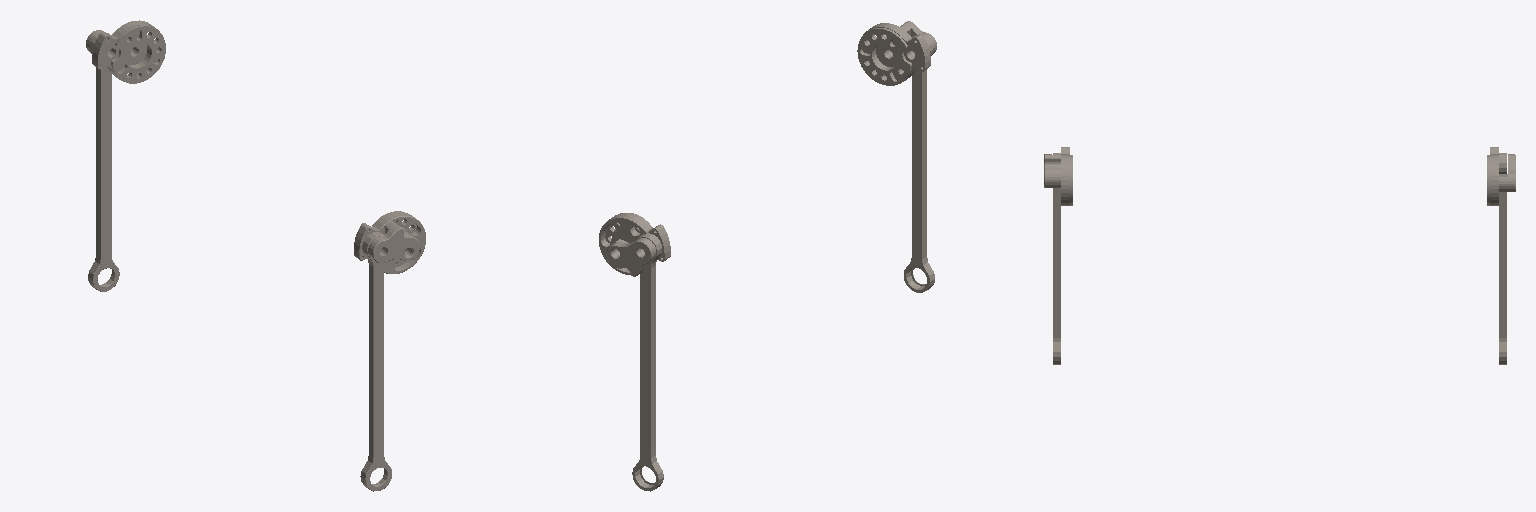
robot.urdf — titaV2:
<?xml version="1.0" encoding="utf-8"?>
<!-- This URDF was automatically created by SolidWorks to URDF Exporter! Originally created by [author] ([email redacted]) 
     Commit Version: 1.6.0-4-g7f85cfe  Build Version: 1.6.7995.38578
     For more information, please see http://wiki.ros.org/sw_urdf_exporter -->
<robot
  name="titaV2">
  <link
    name="pelvis">
    <inertial>
      <origin
        xyz="-0.002847 -0.00037169 0.01809"
        rpy="0 0 0" />
      <mass
        value="11.637" />
      <inertia
        ixx="0.047811"
        ixy="-1.1402E-05"
        ixz="0.0006116"
        iyy="0.031456"
        iyz="1.4971E-05"
        izz="0.057429" />
    </inertial>
    <visual>
      <origin
        xyz="0 0 0"
        rpy="0 0 0" />
      <geometry>
        <mesh
          filename="package://titaV2/meshes/pelvis.STL" />
      </geometry>
      <material
        name="">
        <color
          rgba="0.75294 0.75294 0.75294 1" />
      </material>
    </visual>
    <collision>
      <origin
        xyz="0 0 0"
        rpy="0 0 0" />
      <geometry>
        <mesh
          filename="package://titaV2/meshes/pelvis.STL" />
      </geometry>
    </collision>
  </link>
  <link
    name="left_hip">
    <inertial>
      <origin
        xyz="-4.4311E-05 -0.014041 0.0027491"
        rpy="0 0 0" />
      <mass
        value="1.9732" />
      <inertia
        ixx="0.002746"
        ixy="2.2481E-07"
        ixz="4.8998E-07"
        iyy="0.0040655"
        iyz="3.5899E-05"
        izz="0.0021042" />
    </inertial>
    <visual>
      <origin
        xyz="0 0 0"
        rpy="0 0 0" />
      <geometry>
        <mesh
          filename="package://titaV2/meshes/left_hip.STL" />
      </geometry>
      <material
        name="">
        <color
          rgba="0.75294 0.75294 0.75294 1" />
      </material>
    </visual>
    <collision>
      <origin
        xyz="0 0 0"
        rpy="0 0 0" />
      <geometry>
        <mesh
          filename="package://titaV2/meshes/left_hip.STL" />
      </geometry>
    </collision>
  </link>
  <joint
    name="left_hip_abduction_joint"
    type="revolute">
    <origin
      xyz="0 0.0895 0"
      rpy="0 1.5708 0" />
    <parent
      link="pelvis" />
    <child
      link="left_hip" />
    <axis
      xyz="0 0 1" />
    <limit
      lower="-1.57"
      upper="1.57"
      effort="0"
      velocity="0" />
  </joint>
  <link
    name="left_thigh">
    <inertial>
      <origin
        xyz="0.019003 0.00092368 -0.091109"
        rpy="0 0 0" />
      <mass
        value="2.365" />
      <inertia
        ixx="0.0024777"
        ixy="-0.00013332"
        ixz="0.00010713"
        iyy="0.0052687"
        iyz="5.2693E-06"
        izz="0.0067964" />
    </inertial>
    <visual>
      <origin
        xyz="0 0 0"
        rpy="0 0 0" />
      <geometry>
        <mesh
          filename="package://titaV2/meshes/left_thigh.STL" />
      </geometry>
      <material
        name="">
        <color
          rgba="0.75294 0.75294 0.75294 1" />
      </material>
    </visual>
    <collision>
      <origin
        xyz="0 0 0"
        rpy="0 0 0" />
      <geometry>
        <mesh
          filename="package://titaV2/meshes/left_thigh.STL" />
      </geometry>
    </collision>
  </link>
  <joint
    name="left_hip_flexion_joint"
    type="revolute">
    <origin
      xyz="0 0.1826 0"
      rpy="-1.5708 0 0" />
    <parent
      link="left_hip" />
    <child
      link="left_thigh" />
    <axis
      xyz="0 0 1" />
    <limit
      lower="-1.57"
      upper="1.57"
      effort="0"
      velocity="0" />
  </joint>
  <link
    name="left_calf">
    <inertial>
      <origin
        xyz="0.12103 0.0090757 -0.050402"
        rpy="0 0 0" />
      <mass
        value="0.6116" />
      <inertia
        ixx="0.00026451"
        ixy="0.0001824"
        ixz="-2.3439E-05"
        iyy="0.0021601"
        iyz="-3.2211E-07"
        izz="0.0023188" />
    </inertial>
    <visual>
      <origin
        xyz="0 0 0"
        rpy="0 0 0" />
      <geometry>
        <mesh
          filename="package://titaV2/meshes/left_calf.STL" />
      </geometry>
      <material
        name="">
        <color
          rgba="0.75294 0.75294 0.75294 1" />
      </material>
    </visual>
    <collision>
      <origin
        xyz="0 0 0"
        rpy="0 0 0" />
      <geometry>
        <mesh
          filename="package://titaV2/meshes/left_calf.STL" />
      </geometry>
    </collision>
  </link>
  <joint
    name="left_knee_joint"
    type="revolute">
    <origin
      xyz="0.2 0 0"
      rpy="0 0 -1.5708" />
    <parent
      link="left_thigh" />
    <child
      link="left_calf" />
    <axis
      xyz="0 0 1" />
    <limit
      lower="-2"
      upper="1"
      effort="0"
      velocity="0" />
  </joint>
  <link
    name="left_wheel">
    <inertial>
      <origin
        xyz="-1.5738E-05 0.00020568 -0.0017928"
        rpy="0 0 0" />
      <mass
        value="1.5376" />
      <inertia
        ixx="0.0031616"
        ixy="1.6324E-07"
        ixz="-4.4034E-08"
        iyy="0.0031569"
        iyz="-2.2207E-06"
        izz="0.0061689" />
    </inertial>
    <visual>
      <origin
        xyz="0 0 0"
        rpy="0 0 0" />
      <geometry>
        <mesh
          filename="package://titaV2/meshes/left_wheel.STL" />
      </geometry>
      <material
        name="">
        <color
          rgba="0.69804 0.69804 0.69804 1" />
      </material>
    </visual>
    <collision>
      <origin
        xyz="0 0 0"
        rpy="0 0 0" />
      <geometry>
        <mesh
          filename="package://titaV2/meshes/left_wheel.STL" />
      </geometry>
    </collision>
  </link>
  <joint
    name="left_ankle_joint"
    type="continuous">
    <origin
      xyz="0.2 0 0"
      rpy="0 0 0" />
    <parent
      link="left_calf" />
    <child
      link="left_wheel" />
    <axis
      xyz="0 0 1" />
  </joint>
  <link
    name="left_bar">
    <inertial>
      <origin
        xyz="0.10272 6.9389E-18 -0.056316"
        rpy="0 0 0" />
      <mass
        value="0.14512" />
      <inertia
        ixx="3.2579E-06"
        ixy="2.5224E-20"
        ixz="-2.3855E-07"
        iyy="0.0006146"
        iyz="6.3552E-22"
        izz="0.00061631" />
    </inertial>
    <visual>
      <origin
        xyz="0 0 0"
        rpy="0 0 0" />
      <geometry>
        <mesh
          filename="package://titaV2/meshes/left_bar.STL" />
      </geometry>
      <material
        name="">
        <color
          rgba="0.64706 0.61961 0.58824 1" />
      </material>
    </visual>
    <collision>
      <origin
        xyz="0 0 0"
        rpy="0 0 0" />
      <geometry>
        <mesh
          filename="package://titaV2/meshes/left_bar.STL" />
      </geometry>
    </collision>
  </link>
  <joint
    name="left_calf_bar_joint"
    type="continuous">
    <origin
      xyz="-0.023182 -0.0062117 0"
      rpy="0 0 -1.5708" />
    <parent
      link="left_calf" />
    <child
      link="left_bar" />
    <axis
      xyz="0 0 1" />
  </joint>
  <link
    name="left_crank">
    <inertial>
      <origin
        xyz="0.017241 0.0015219 -0.060973"
        rpy="0 0 0" />
      <mass
        value="0.20695" />
      <inertia
        ixx="3.8345E-05"
        ixy="4.9899E-07"
        ixz="5.0169E-06"
        iyy="5.8112E-05"
        iyz="-2.8373E-06"
        izz="7.0093E-05" />
    </inertial>
    <visual>
      <origin
        xyz="0 0 0"
        rpy="0 0 0" />
      <geometry>
        <mesh
          filename="package://titaV2/meshes/left_crank.STL" />
      </geometry>
      <material
        name="">
        <color
          rgba="0.64706 0.61961 0.58824 1" />
      </material>
    </visual>
    <collision>
      <origin
        xyz="0 0 0"
        rpy="0 0 0" />
      <geometry>
        <mesh
          filename="package://titaV2/meshes/left_crank.STL" />
      </geometry>
    </collision>
  </link>
  <joint
    name="left_bar_crank_joint"
    type="continuous">
    <origin
      xyz="0.2 0 0"
      rpy="0 0 1.8326" />
    <parent
      link="left_bar" />
    <child
      link="left_crank" />
    <axis
      xyz="0 0 1" />
  </joint>
  <link
    name="right_hip">
    <inertial>
      <origin
        xyz="4.4311E-05 0.014041 0.0027491"
        rpy="0 0 0" />
      <mass
        value="1.9732" />
      <inertia
        ixx="0.002746"
        ixy="2.2481E-07"
        ixz="-4.8998E-07"
        iyy="0.0040655"
        iyz="-3.5899E-05"
        izz="0.0021042" />
    </inertial>
    <visual>
      <origin
        xyz="0 0 0"
        rpy="0 0 0" />
      <geometry>
        <mesh
          filename="package://titaV2/meshes/right_hip.STL" />
      </geometry>
      <material
        name="">
        <color
          rgba="0.75294 0.75294 0.75294 1" />
      </material>
    </visual>
    <collision>
      <origin
        xyz="0 0 0"
        rpy="0 0 0" />
      <geometry>
        <mesh
          filename="package://titaV2/meshes/right_hip.STL" />
      </geometry>
    </collision>
  </link>
  <joint
    name="right_hip_abduction_joint"
    type="revolute">
    <origin
      xyz="0 -0.0895 0"
      rpy="0 1.5708 0" />
    <parent
      link="pelvis" />
    <child
      link="right_hip" />
    <axis
      xyz="0 0 1" />
    <limit
      lower="-1.57"
      upper="1.57"
      effort="0"
      velocity="0" />
  </joint>
  <link
    name="right_thigh">
    <inertial>
      <origin
        xyz="0.018988 0.00090795 0.091109"
        rpy="0 0 0" />
      <mass
        value="2.365" />
      <inertia
        ixx="0.0024783"
        ixy="-0.00013332"
        ixz="-0.00010721"
        iyy="0.0052682"
        iyz="-5.356E-06"
        izz="0.0067965" />
    </inertial>
    <visual>
      <origin
        xyz="0 0 0"
        rpy="0 0 0" />
      <geometry>
        <mesh
          filename="package://titaV2/meshes/right_thigh.STL" />
      </geometry>
      <material
        name="">
        <color
          rgba="0.75294 0.75294 0.75294 1" />
      </material>
    </visual>
    <collision>
      <origin
        xyz="0 0 0"
        rpy="0 0 0" />
      <geometry>
        <mesh
          filename="package://titaV2/meshes/right_thigh.STL" />
      </geometry>
    </collision>
  </link>
  <joint
    name="right_hip_flexion_joint"
    type="revolute">
    <origin
      xyz="0 -0.1826 0"
      rpy="-1.5708 0 0" />
    <parent
      link="right_hip" />
    <child
      link="right_thigh" />
    <axis
      xyz="0 0 1" />
    <limit
      lower="-1.57"
      upper="1.57"
      effort="0"
      velocity="0" />
  </joint>
  <link
    name="right_calf">
    <inertial>
      <origin
        xyz="0.12103 0.0091003 0.05039"
        rpy="0 0 0" />
      <mass
        value="0.6116" />
      <inertia
        ixx="0.00026444"
        ixy="0.00018202"
        ixz="2.3441E-05"
        iyy="0.0021602"
        iyz="3.2666E-07"
        izz="0.0023188" />
    </inertial>
    <visual>
      <origin
        xyz="0 0 0"
        rpy="0 0 0" />
      <geometry>
        <mesh
          filename="package://titaV2/meshes/right_calf.STL" />
      </geometry>
      <material
        name="">
        <color
          rgba="0.75294 0.75294 0.75294 1" />
      </material>
    </visual>
    <collision>
      <origin
        xyz="0 0 0"
        rpy="0 0 0" />
      <geometry>
        <mesh
          filename="package://titaV2/meshes/right_calf.STL" />
      </geometry>
    </collision>
  </link>
  <joint
    name="right_knee_joint"
    type="revolute">
    <origin
      xyz="0.2 0 0"
      rpy="0 0 -1.5708" />
    <parent
      link="right_thigh" />
    <child
      link="right_calf" />
    <axis
      xyz="0 0 1" />
    <limit
      lower="-2"
      upper="1"
      effort="0"
      velocity="0" />
  </joint>
  <link
    name="right_wheel">
    <inertial>
      <origin
        xyz="-1.4534E-07 4.1544E-05 0.0018445"
        rpy="0 0 0" />
      <mass
        value="1.5377" />
      <inertia
        ixx="0.003086"
        ixy="4.7536E-08"
        ixz="3.5434E-08"
        iyy="0.003086"
        iyz="-4.621E-08"
        izz="0.0059413" />
    </inertial>
    <visual>
      <origin
        xyz="0 0 0"
        rpy="0 0 0" />
      <geometry>
        <mesh
          filename="package://titaV2/meshes/right_wheel.STL" />
      </geometry>
      <material
        name="">
        <color
          rgba="0.69804 0.69804 0.69804 1" />
      </material>
    </visual>
    <collision>
      <origin
        xyz="0 0 0"
        rpy="0 0 0" />
      <geometry>
        <mesh
          filename="package://titaV2/meshes/right_wheel.STL" />
      </geometry>
    </collision>
  </link>
  <joint
    name="right_ankle_joint"
    type="continuous">
    <origin
      xyz="0.2 0 0"
      rpy="0 0 0" />
    <parent
      link="right_calf" />
    <child
      link="right_wheel" />
    <axis
      xyz="0 0 1" />
  </joint>
  <link
    name="right_bar">
    <inertial>
      <origin
        xyz="0.10273 1.2647E-06 0.056284"
        rpy="0 0 0" />
      <mass
        value="0.14512" />
      <inertia
        ixx="3.2579E-06"
        ixy="-1.802E-17"
        ixz="-2.3855E-07"
        iyy="0.0006146"
        iyz="-7.7477E-21"
        izz="0.00061631" />
    </inertial>
    <visual>
      <origin
        xyz="0 0 0"
        rpy="0 0 0" />
      <geometry>
        <mesh
          filename="package://titaV2/meshes/right_bar.STL" />
      </geometry>
      <material
        name="">
        <color
          rgba="0.64706 0.61961 0.58824 1" />
      </material>
    </visual>
    <collision>
      <origin
        xyz="0 0 0"
        rpy="0 0 0" />
      <geometry>
        <mesh
          filename="package://titaV2/meshes/right_bar.STL" />
      </geometry>
    </collision>
  </link>
  <joint
    name="right_calf_bar_joint"
    type="continuous">
    <origin
      xyz="-0.023182 -0.0062117 0"
      rpy="0 0 -1.5708" />
    <parent
      link="right_calf" />
    <child
      link="right_bar" />
    <axis
      xyz="0 0 1" />
  </joint>
  <link
    name="right_crank">
    <inertial>
      <origin
        xyz="0.017241 -0.0015233 0.060973"
        rpy="0 0 0" />
      <mass
        value="0.20695" />
      <inertia
        ixx="3.8346E-05"
        ixy="-5.0302E-07"
        ixz="-5.0163E-06"
        iyy="5.8112E-05"
        iyz="-2.8383E-06"
        izz="7.0093E-05" />
    </inertial>
    <visual>
      <origin
        xyz="0 0 0"
        rpy="0 0 0" />
      <geometry>
        <mesh
          filename="package://titaV2/meshes/right_crank.STL" />
      </geometry>
      <material
        name="">
        <color
          rgba="0.64706 0.61961 0.58824 1" />
      </material>
    </visual>
    <collision>
      <origin
        xyz="0 0 0"
        rpy="0 0 0" />
      <geometry>
        <mesh
          filename="package://titaV2/meshes/right_crank.STL" />
      </geometry>
    </collision>
  </link>
  <joint
    name="right_bar_crank_joint"
    type="continuous">
    <origin
      xyz="0.2 0 0"
      rpy="0 0 1.8326" />
    <parent
      link="right_bar" />
    <child
      link="right_crank" />
    <axis
      xyz="0 0 1" />
  </joint>
</robot>

--- What the picture shows (computed from the rendered views, not written in the file) ---
3 views of the same robot in one strip: view 1: azimuth 30°, elevation 25°; view 2: azimuth 150°, elevation 25°; view 3: azimuth 270°, elevation 25° (orthographic).
Model titaV2 with 13 links and 12 joints (6 revolute, 6 continuous), rooted at pelvis, posed all joints at 0.
Visible links, largest first — view 1: right_bar, left_bar, left_crank, right_crank; view 2: left_bar, right_crank, right_bar, left_crank; view 3: left_bar, right_bar, right_crank, left_crank.
Link boxes in pixels (left/top/right/bottom): right_bar: left=360, top=232, right=391, bottom=491; left_bar: left=88, top=32, right=119, bottom=291; left_crank: left=86, top=20, right=165, bottom=83; right_crank: left=354, top=211, right=425, bottom=273; left_bar: left=632, top=233, right=663, bottom=491; right_crank: left=857, top=21, right=936, bottom=85; right_bar: left=904, top=35, right=934, bottom=292; left_crank: left=599, top=213, right=670, bottom=276; left_bar: left=1499, top=153, right=1506, bottom=364; right_bar: left=1053, top=153, right=1060, bottom=364; right_crank: left=1044, top=147, right=1072, bottom=205; left_crank: left=1487, top=147, right=1515, bottom=205.
Bounding box of the posed robot: 0.0614 × 0.4552 × 0.2312 m (x, y, z).
Meshes: 13 distinct files referenced, 4 mesh visuals loaded (4 binary STL); not drawn: 9 (reference not matched to a file when rendering).